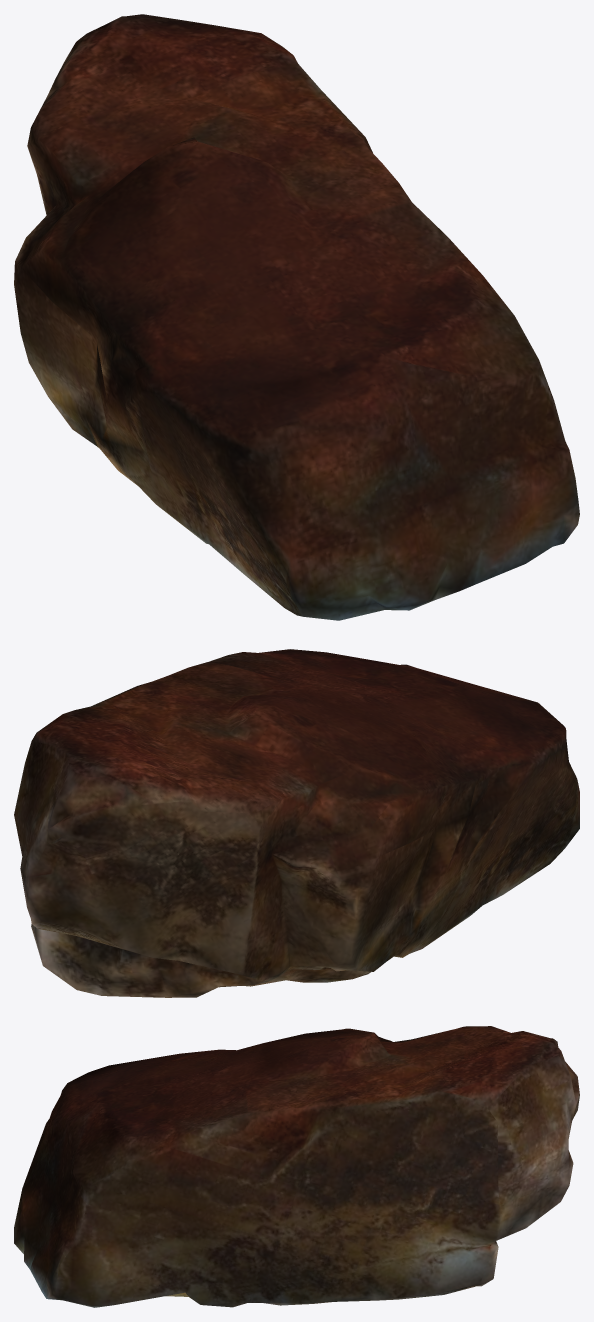
File: rock_07.glb
3 views of the same model, one above another, from view 1: azimuth 30°, elevation 25°; view 2: azimuth 150°, elevation 25°; view 3: azimuth 270°, elevation 25° (orthographic). The views are drawn at different scales.
Visible parts, largest first — view 1: rock_07; view 2: rock_07; view 3: rock_07.
Boxes of the visible parts, box(x1,y1,x2,y2) form: rock_07: box(14, 14, 579, 620); rock_07: box(14, 649, 579, 997); rock_07: box(14, 1026, 579, 1307).
Bounding box in the file's own units: 0.1676 × 0.1434 × 0.3194.
1 material, 1 textured.
